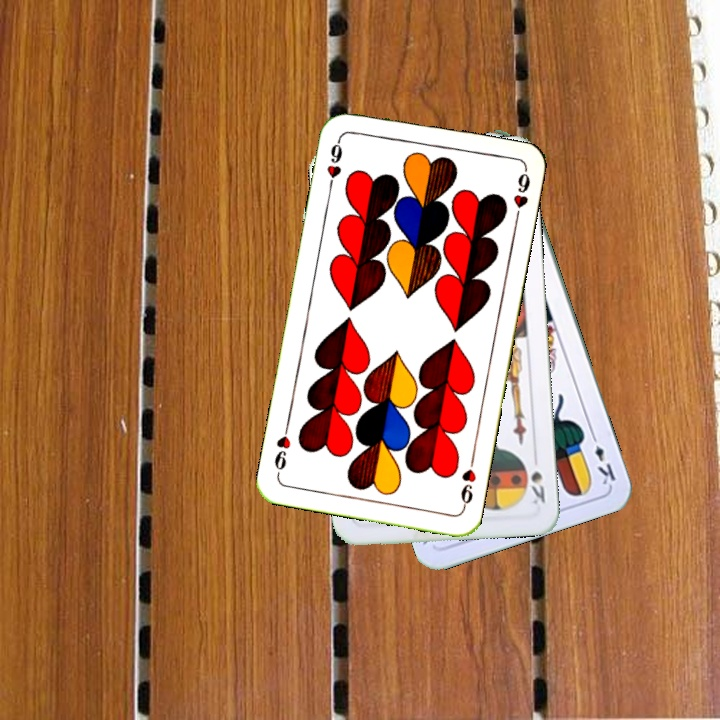EK: (587, 429, 619, 488)
H9: (457, 453, 479, 512), (323, 134, 345, 193)
SK: (527, 467, 548, 507)
